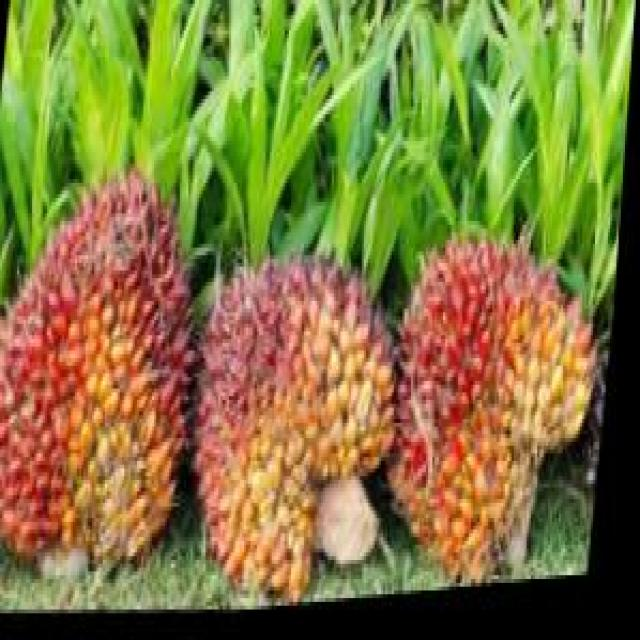Ripefruit: (0, 152, 216, 602), (384, 187, 613, 606), (188, 228, 418, 610)
